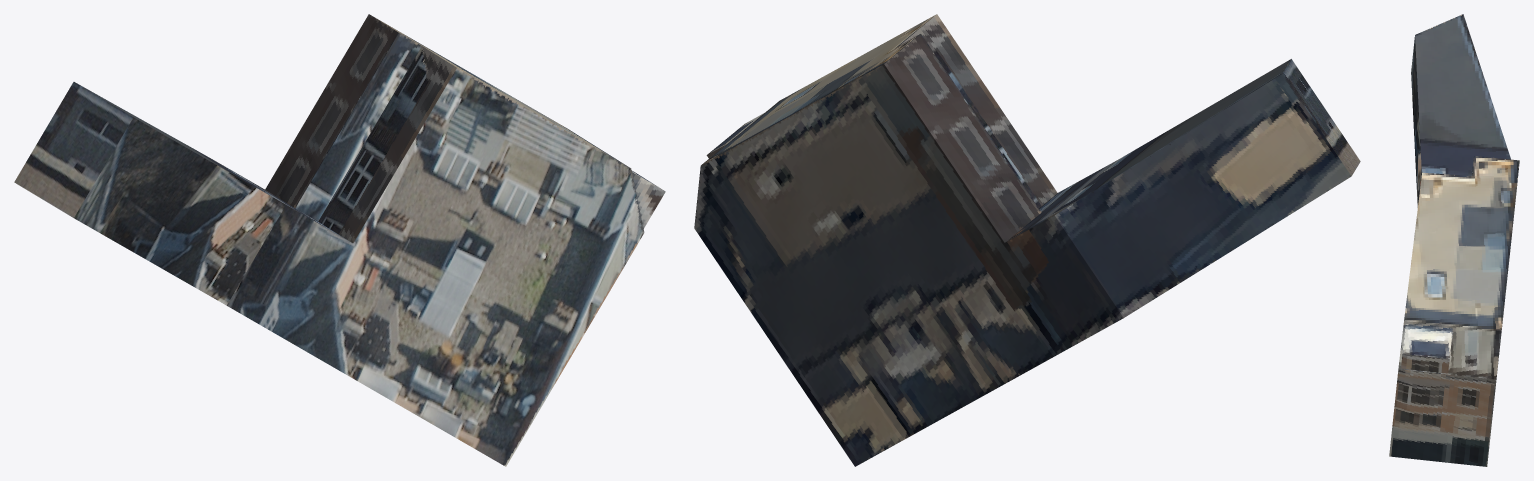
3 renders of one model, left to right at view 1: azimuth 30°, elevation 25°; view 2: azimuth 150°, elevation 25°; view 3: azimuth 270°, elevation 25°, orthographic. The views are drawn at different scales.
Visible parts, largest first — view 1: BAG_0599100000671726 (×5); view 2: BAG_0599100000671726 (×4); view 3: BAG_0599100000671726 (×6).
Boxes of the visible parts, x1,y1,x2,y2 form: BAG_0599100000671726 (×5): (14,14,665,466); BAG_0599100000671726 (×4): (694,14,1360,466); BAG_0599100000671726 (×6): (1389,14,1519,466).
Bounding box in the file's own units: 29.36 × 20.64 × 7.64.
7 materials, 6 textured.
